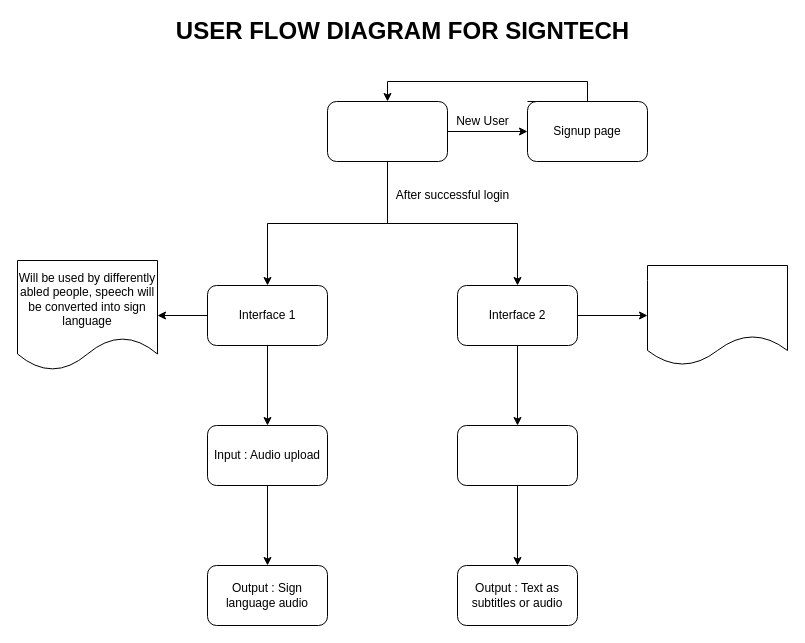
Image size: 805x643. Some labels were removed from this diagram. Here are the shapes that lost their labels. From the top down, the box of each, then its label:
(326, 100, 448, 162): Login
(646, 264, 788, 366): Will be used by normal user, sign language will be converted into text/speech
(456, 424, 578, 486): Input : Video upload
